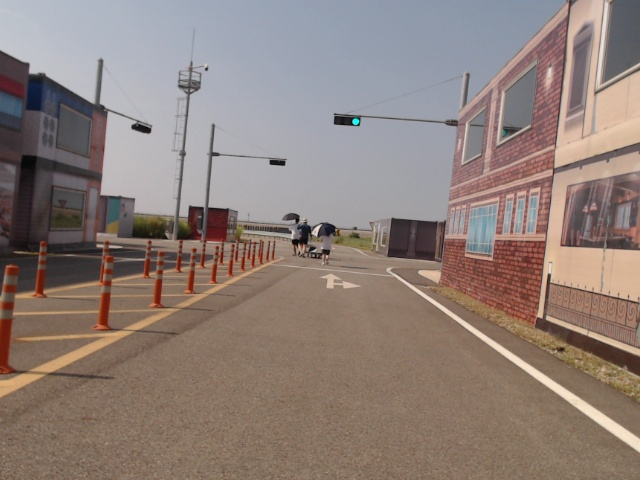green_3: (334, 115, 361, 127)
